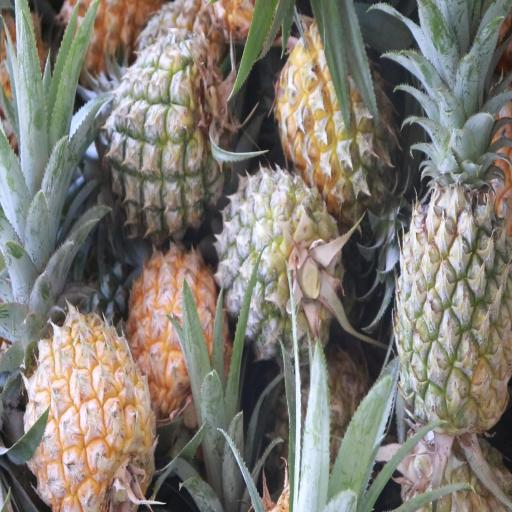------------------------------: (285, 28, 407, 216), (109, 53, 235, 229), (227, 173, 348, 352)
Pineapple - v8 v1: (26, 322, 157, 510), (128, 243, 226, 406)
